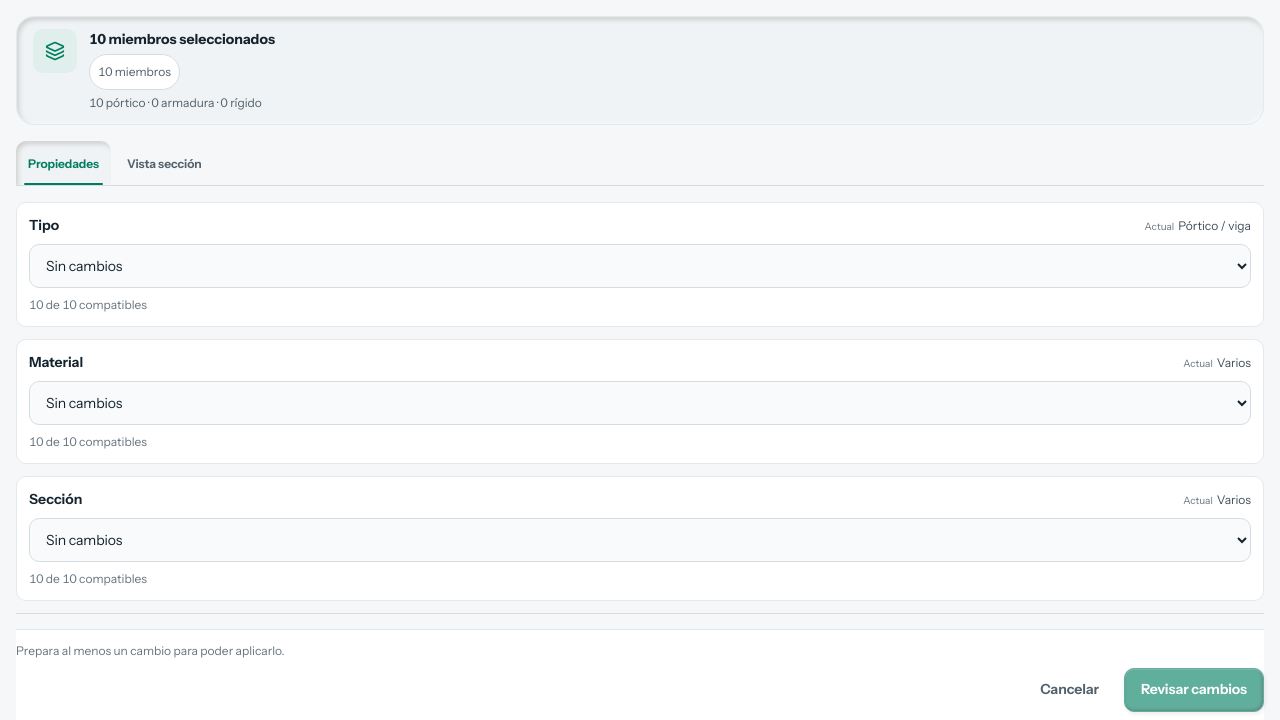
Test case: BulkEditPanel › keeps Apply disabled until something is staged
Expected: the button "Revisar cambios" is disabled, [1124,668,1264,712]
Select "W12x53" in the dropdown labelled "Sección" at [640, 540], box [29,518,1251,562]
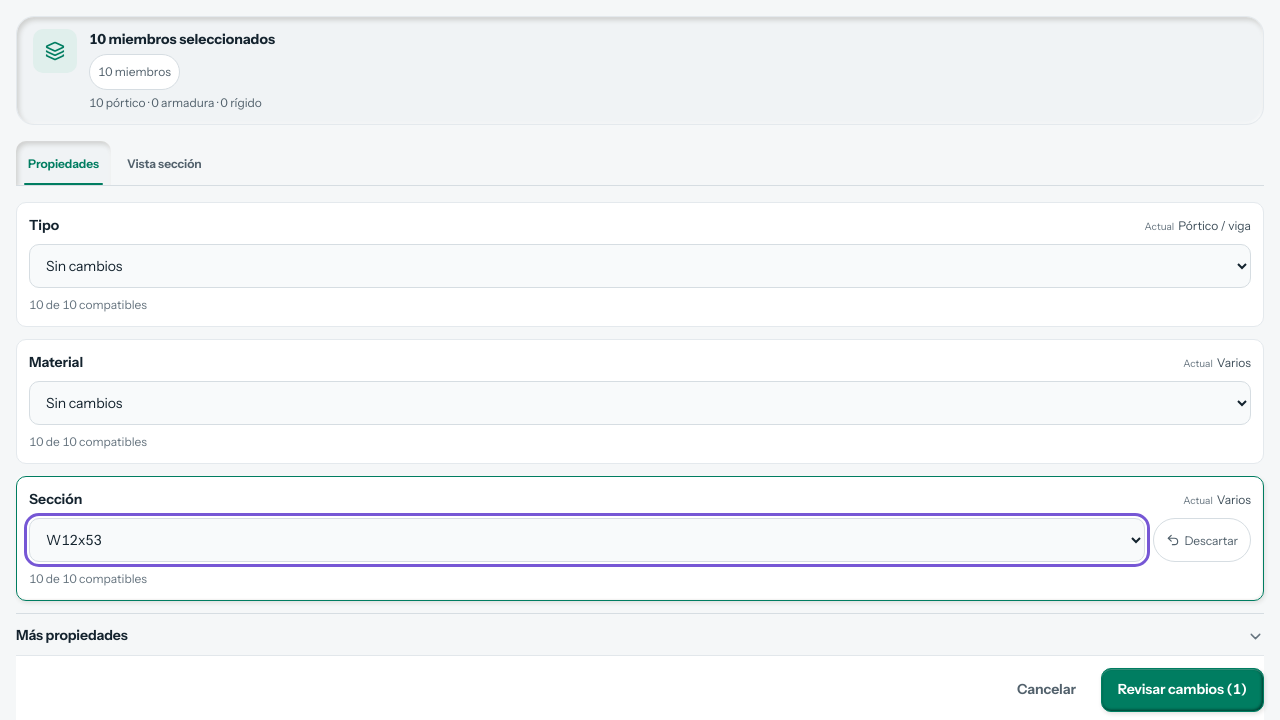
Now the button "Revisar cambios (1)" is enabled, box [1101,668,1264,712]
Now the button "Revisar cambios (1)" is shown, box [1101,668,1264,712]
